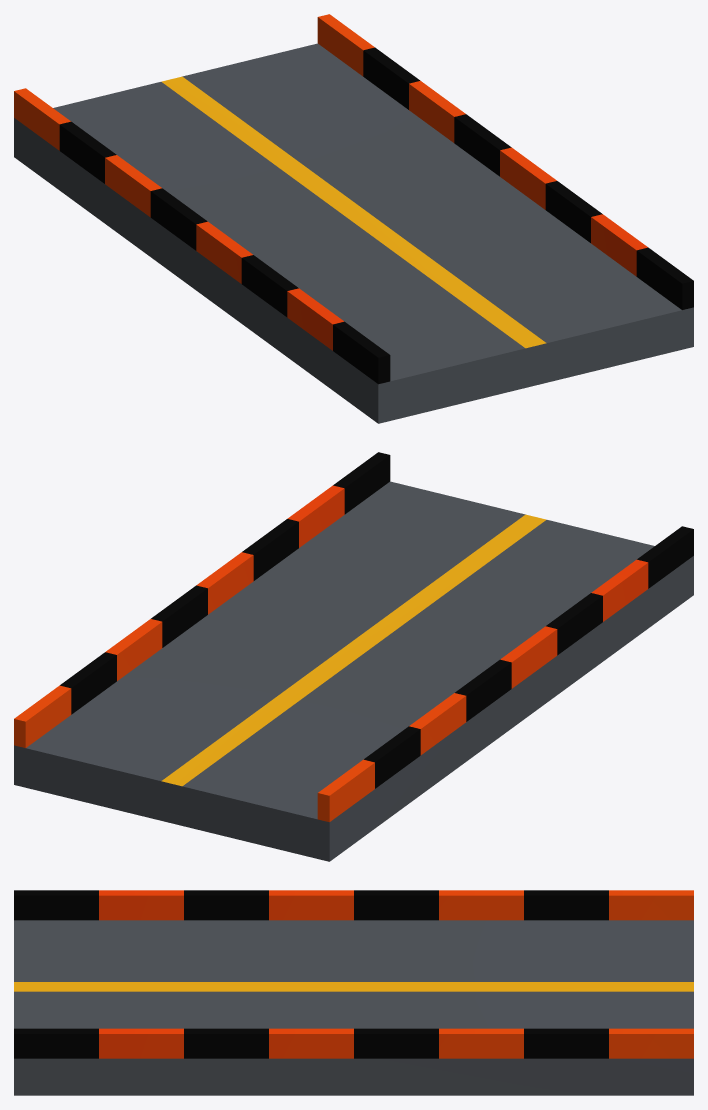
Rendered from flat_way_gray.fbx.
3 views of the same model, one above another, from view 1: azimuth 30°, elevation 25°; view 2: azimuth 150°, elevation 25°; view 3: azimuth 270°, elevation 25° (orthographic). The views are drawn at different scales.
Parts seen in each view (by area): view 1: flat_way.015; view 2: flat_way.015; view 3: flat_way.015.
Part boxes in pixels (left/top/right/bottom): flat_way.015: left=14, top=14, right=693, bottom=423; flat_way.015: left=14, top=452, right=693, bottom=861; flat_way.015: left=14, top=890, right=693, bottom=1095.
Bounding box in the file's own units: 10 × 2 × 20.
